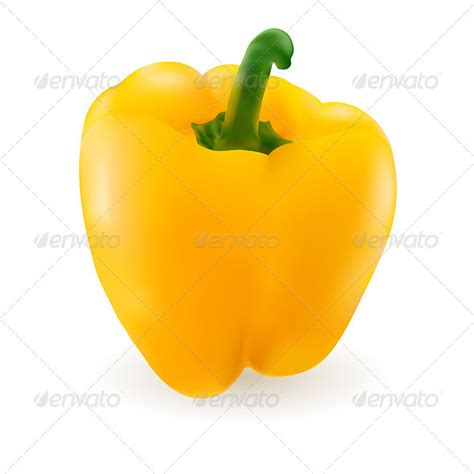???: (79, 29, 398, 398)
